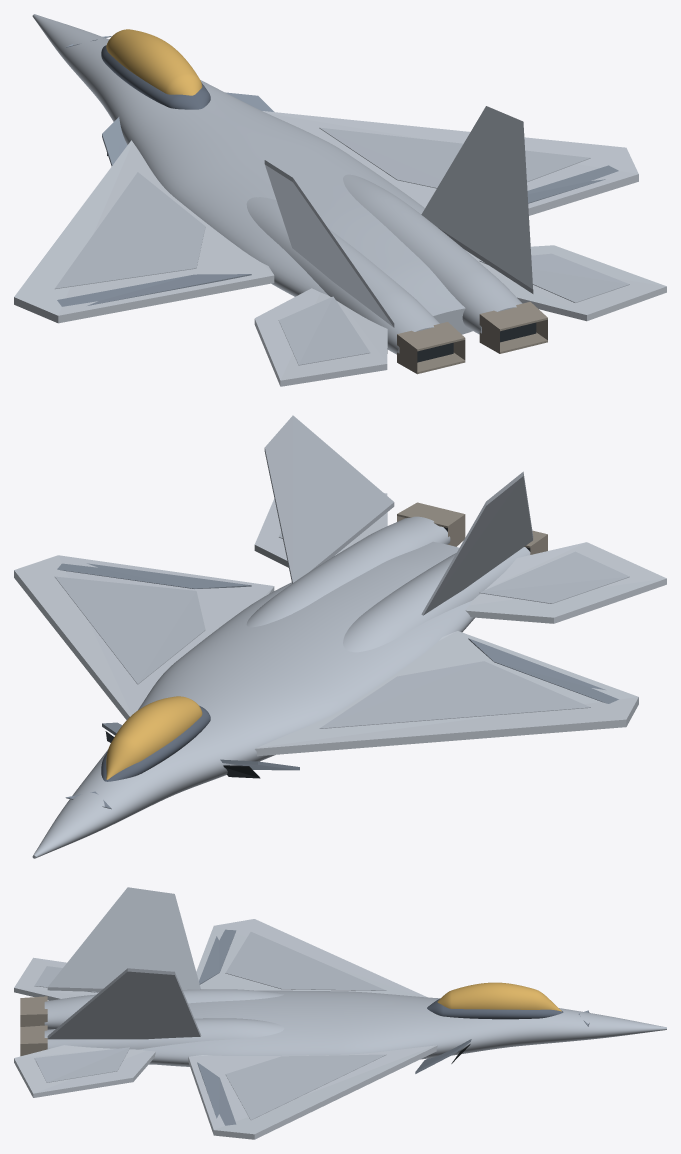
The model's file is airplane-f22.glb.
3 renders of one model, top to bottom at view 1: azimuth 30°, elevation 25°; view 2: azimuth 150°, elevation 25°; view 3: azimuth 270°, elevation 25°, orthographic. The views are drawn at different scales.
Visible parts, largest first — view 1: Blended fuselage, Left main wing, Right canted vertical stabilizer, Left wing inset, Right main wing, Right engine nacelle, Left engine nacelle, Left horizontal stabilizer, Right wing inset, Left canted vertical stabilizer, Right horizontal stabilizer, Left tail inset (+10 smaller); view 2: Blended fuselage, Left main wing, Right canted vertical stabilizer, Right main wing, Left wing inset, Right wing inset, Left horizontal stabilizer, Right engine nacelle, Left canted vertical stabilizer, Left engine nacelle, Amber canopy, Left tail inset (+5 smaller); view 3: Blended fuselage, Left canted vertical stabilizer, Right canted vertical stabilizer, Right main wing, Right wing inset, Left wing inset, Left main wing, Right horizontal stabilizer, Right engine nacelle, Amber canopy, Right tail inset, Left engine nacelle (+6 smaller).
Part boxes in pixels (x1,y1,x2,y2): Blended fuselage: (32,14,472,334); Left main wing: (14,140,274,323); Right canted vertical stabilizer: (421,106,533,293); Left wing inset: (55,172,205,289); Right main wing: (262,111,638,215); Right engine nacelle: (343,174,522,334); Left engine nacelle: (246,197,439,354); Left horizontal stabilizer: (254,288,387,386); Right wing inset: (319,127,590,188); Left canted vertical stabilizer: (264,160,394,327); Right horizontal stabilizer: (466,245,666,321); Left tail inset: (278,296,370,365); Blended fuselage: (32,541,474,858); Left main wing: (255,631,638,756); Right canted vertical stabilizer: (264,415,394,583); Right main wing: (14,555,274,720); Left wing inset: (319,661,590,728); Right wing inset: (55,576,205,684); Left horizontal stabilizer: (465,542,666,623); Right engine nacelle: (246,516,450,627); Left canted vertical stabilizer: (421,471,533,615); Left engine nacelle: (343,547,530,652); Amber canopy: (106,696,202,779); Left tail inset: (479,551,629,603); Blended fuselage: (68,990,666,1066); Left canted vertical stabilizer: (47,887,200,991); Right canted vertical stabilizer: (47,968,201,1039); Right main wing: (188,1045,437,1139); Right wing inset: (225,1054,386,1120); Left wing inset: (225,932,386,990); Left main wing: (196,919,426,997); Right horizontal stabilizer: (14,1045,155,1097); Right engine nacelle: (44,1018,284,1064); Amber canopy: (437,982,561,1011); Right tail inset: (34,1047,130,1082); Left engine nacelle: (44,989,283,1029).
Size of the model in its own units: 13.5 by 3.59 by 17.29.
